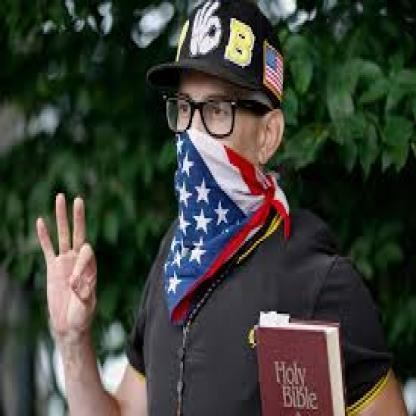ok: (32, 189, 102, 336)
